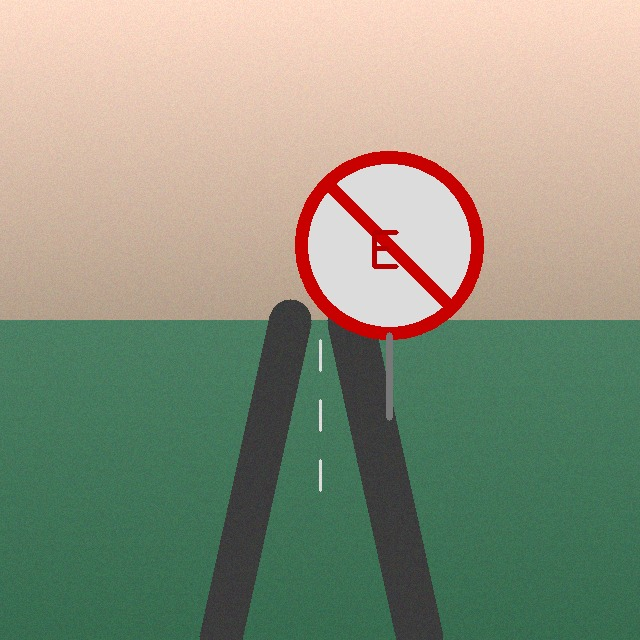no_estacionar: (299, 155, 479, 335)
